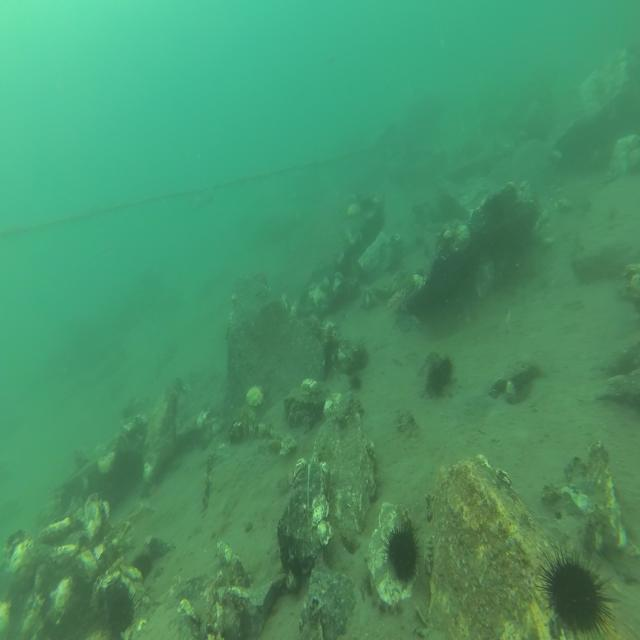echinus: (534, 534, 622, 640), (380, 516, 424, 584), (103, 577, 142, 640), (133, 550, 152, 577), (490, 194, 504, 225), (430, 364, 444, 394), (442, 354, 458, 379), (350, 375, 362, 391)
